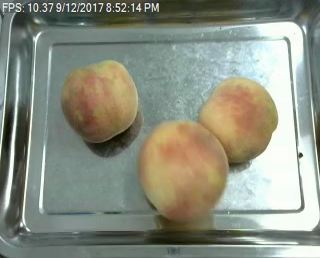Peach: (137, 121, 228, 225), (198, 76, 278, 165), (60, 60, 139, 145)
